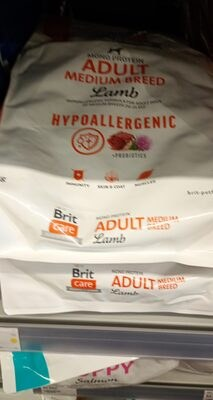Adult medium breed lambd: (11, 20, 202, 380)
